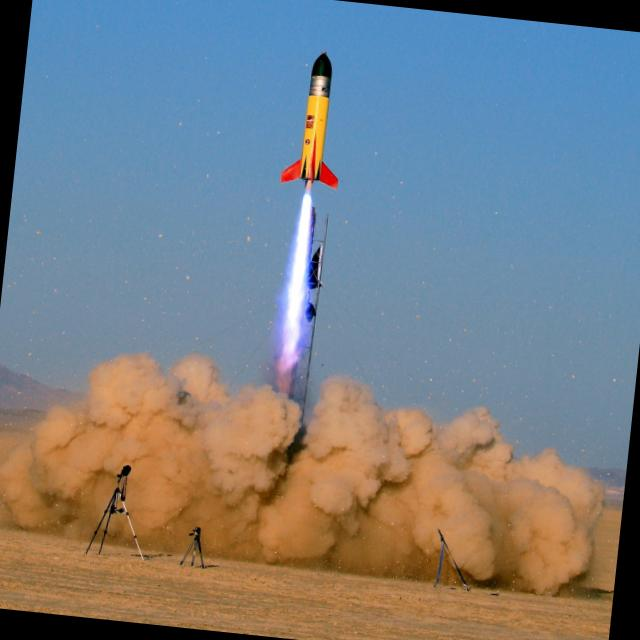rocket: (268, 51, 343, 380)
